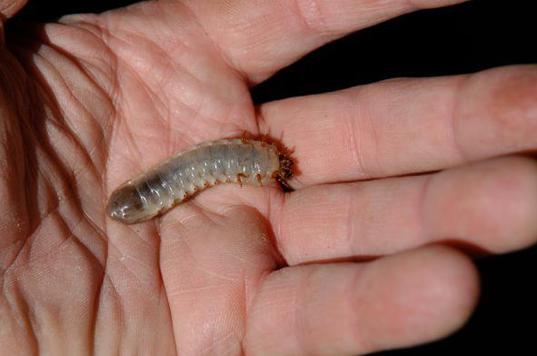grub: (109, 118, 309, 239)
